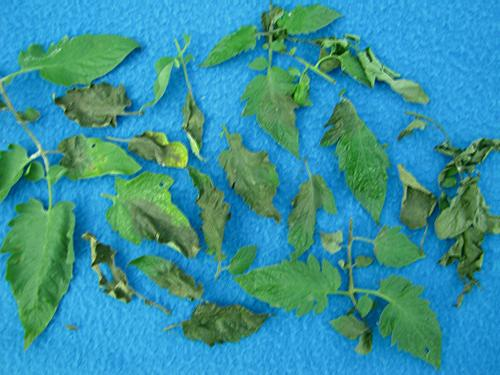Tomato leaf late blight: (0, 186, 85, 349), (103, 170, 202, 267), (323, 94, 395, 219), (221, 256, 346, 312), (241, 60, 307, 155), (219, 124, 285, 217), (184, 162, 239, 260), (283, 162, 334, 258), (121, 250, 210, 303), (56, 129, 142, 182), (201, 26, 267, 66)
